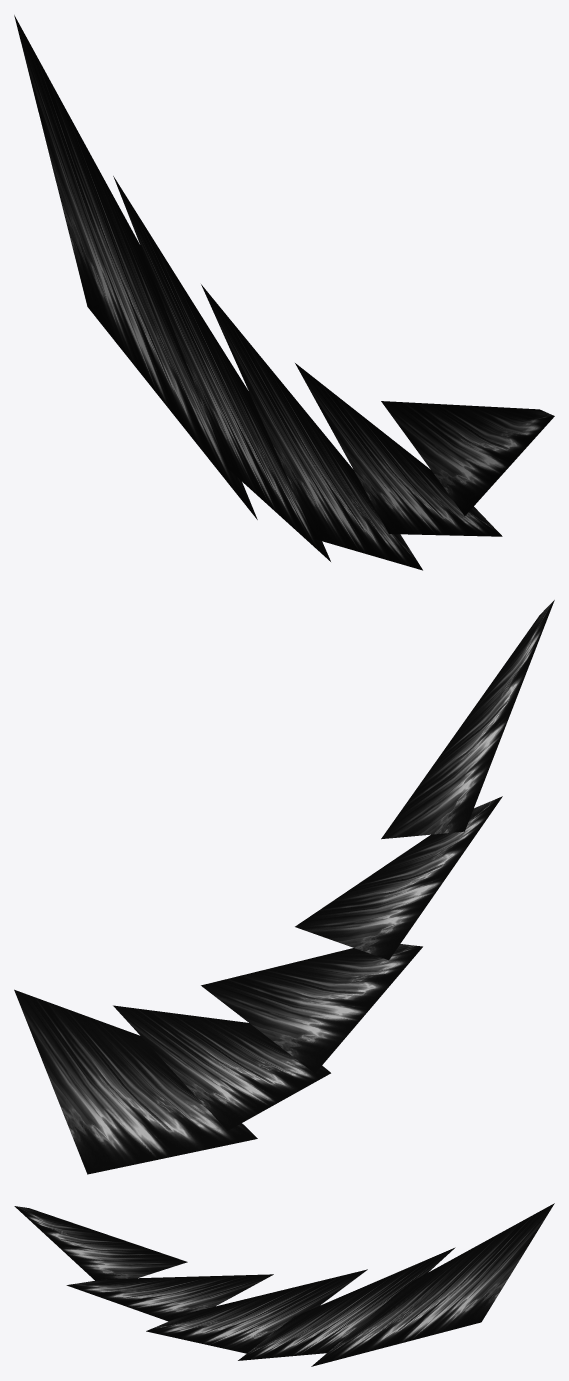
Rendered from FX_lfl_wuqi_366_liuguang02.FBX.
The picture shows the model from 3 angles, top to bottom: view 1: azimuth 30°, elevation 25°; view 2: azimuth 150°, elevation 25°; view 3: azimuth 270°, elevation 25°; orthographic projection. The views are drawn at different scales.
Parts seen in each view (by area): view 1: Plane017; view 2: Plane017; view 3: Plane017.
Boxes of the visible parts, left/top/right/bottom form: Plane017: left=14, top=15, right=554, bottom=570; Plane017: left=14, top=600, right=554, bottom=1174; Plane017: left=14, top=1203, right=554, bottom=1366.
Size of the model in its own units: 9.52e-06 by 13.03 by 38.97.
Materials: 1 (1 with a texture image).
